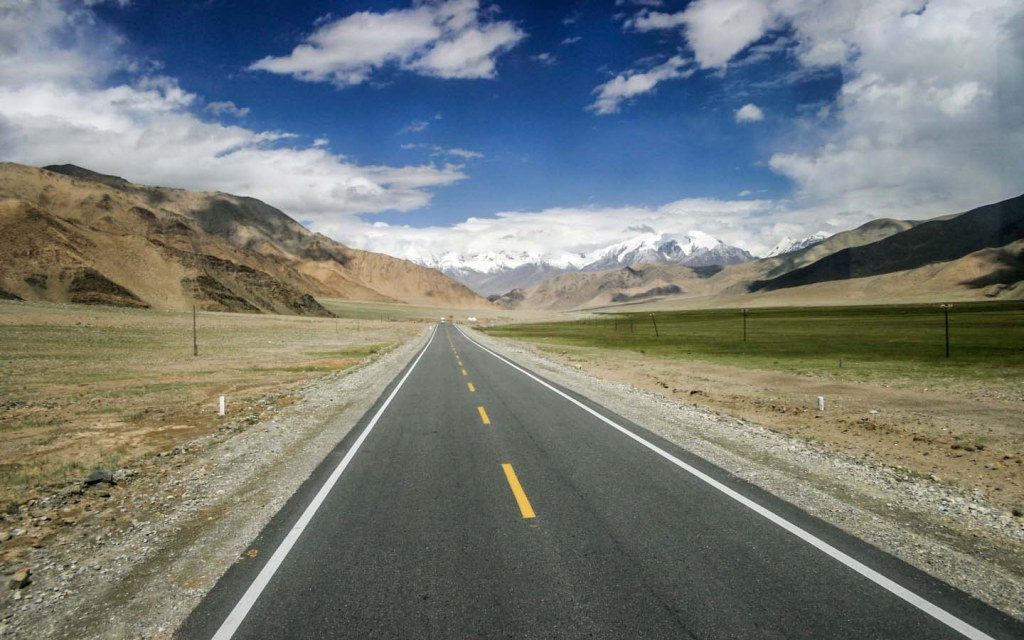straightRoad: (361, 318, 654, 583)
